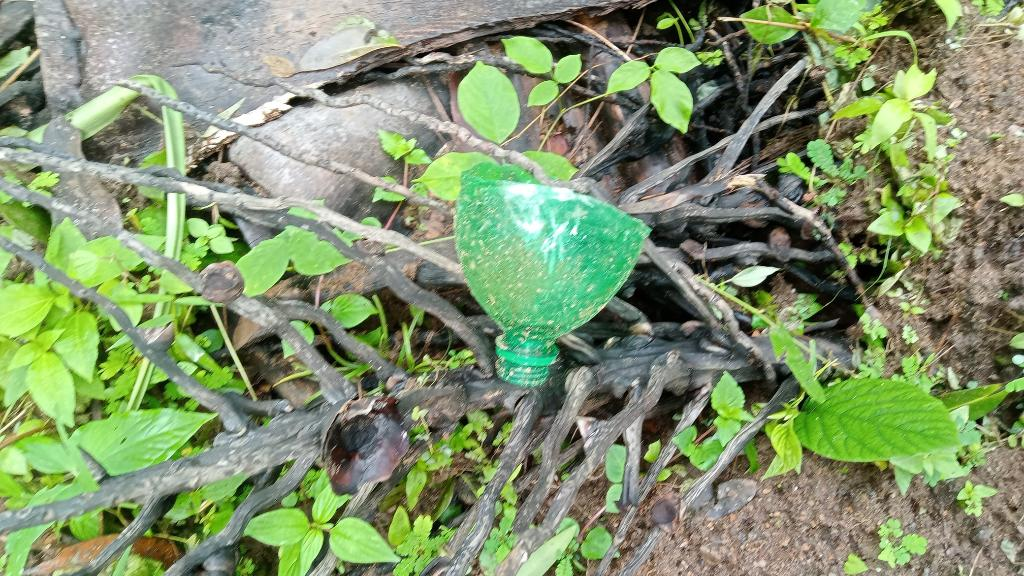garbage: (432, 148, 654, 406)
